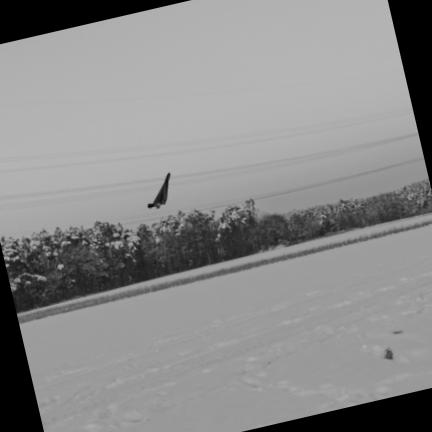Shahed: (148, 173, 169, 208)
